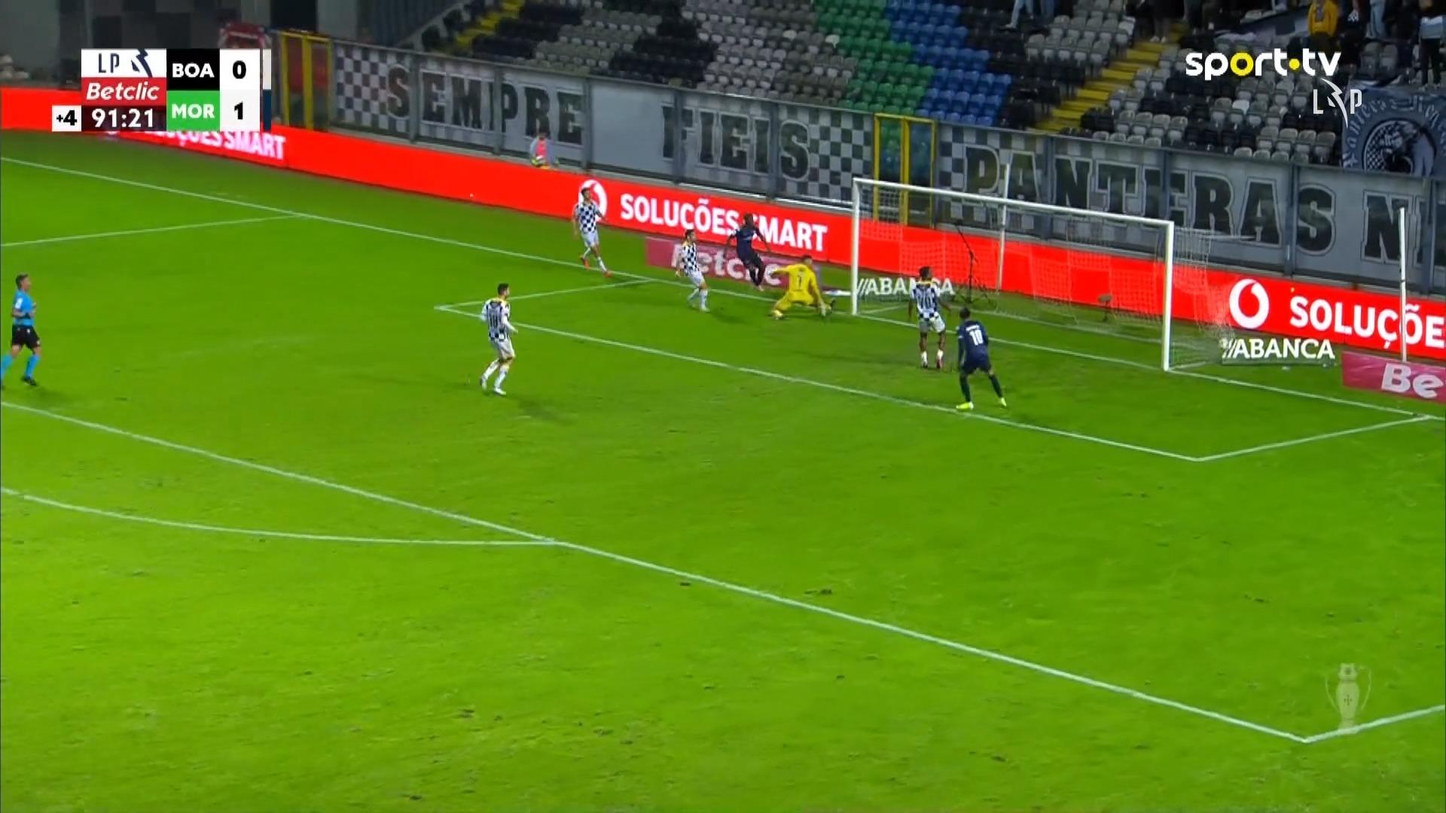goalkeeper: (766, 253, 831, 321)
player: (953, 305, 1007, 410), (907, 264, 953, 370), (477, 282, 518, 396), (571, 183, 612, 278), (721, 212, 770, 291), (672, 227, 710, 312)
referee: (0, 272, 41, 388)
